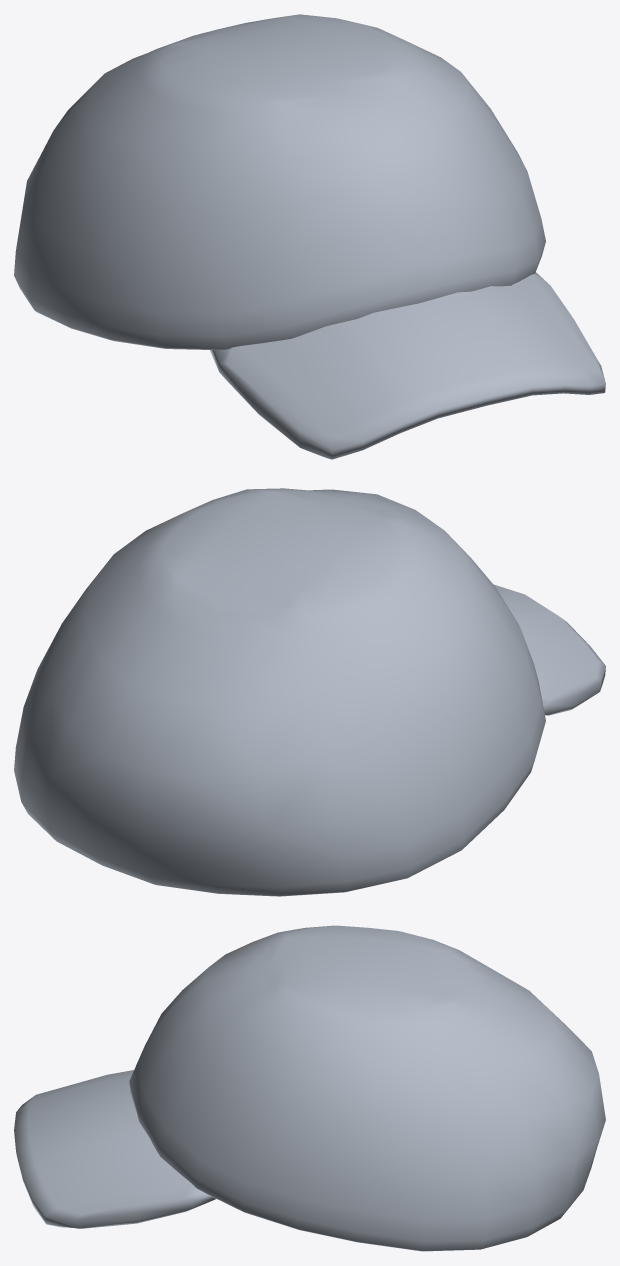
Rendered from hat3.fbx.
3 renders of one model, top to bottom at view 1: azimuth 30°, elevation 25°; view 2: azimuth 150°, elevation 25°; view 3: azimuth 270°, elevation 25°, orthographic. The views are drawn at different scales.
Visible parts, largest first — view 1: hat3; view 2: hat3; view 3: hat3.
Part boxes in pixels (x1=…): hat3: x1=14, y1=14, x2=605, y2=459; hat3: x1=14, y1=488, x2=605, y2=896; hat3: x1=14, y1=925, x2=605, y2=1251.
Size of the model in its own units: 0.8635 by 0.4753 by 1.17.
